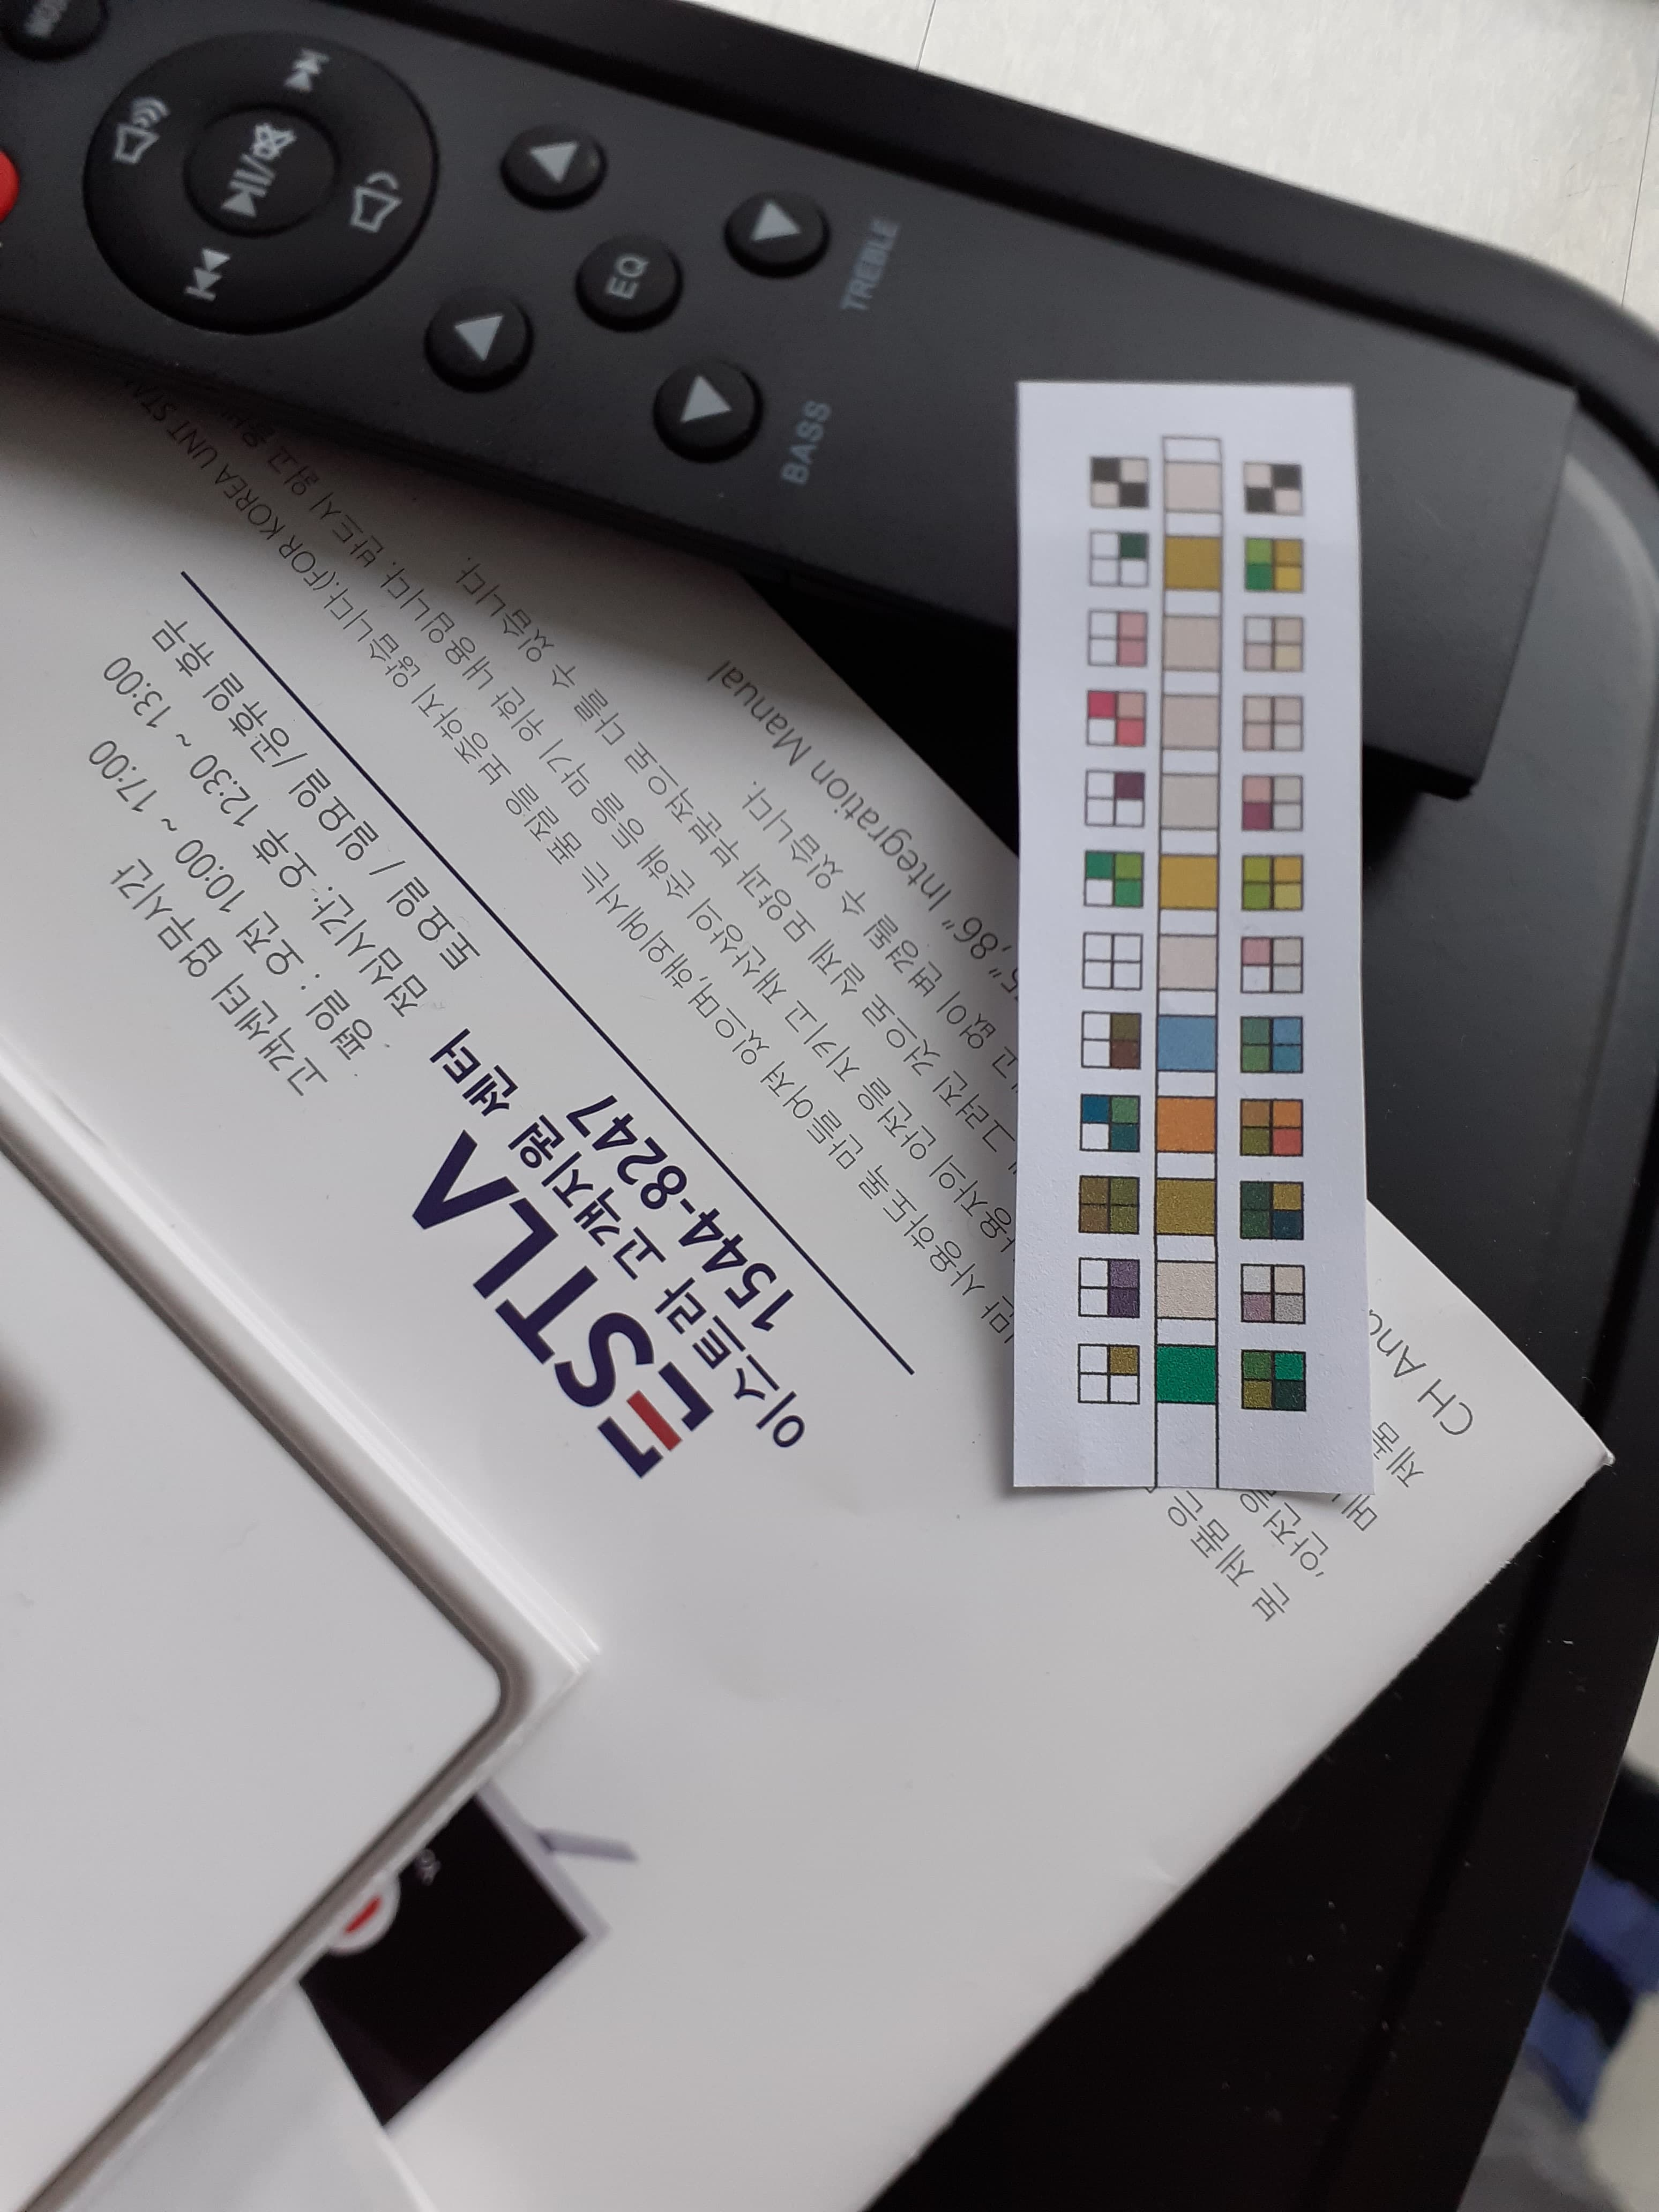tester: (1014, 374, 1368, 1494)
